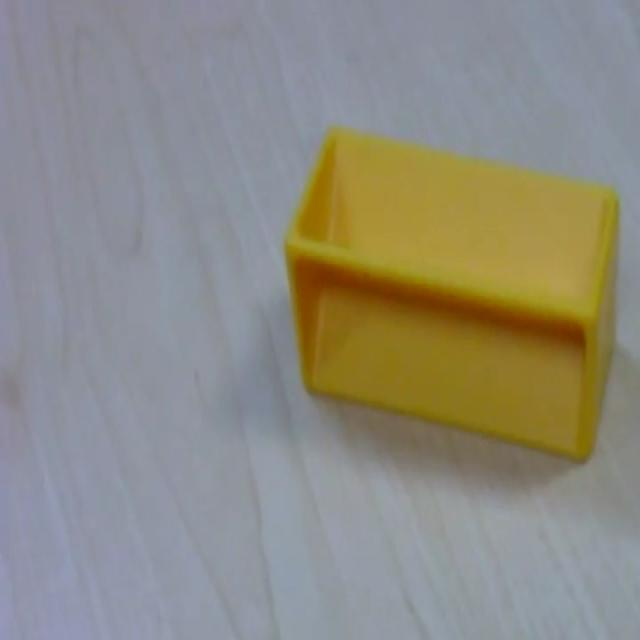yellow_block: (283, 121, 620, 463)
